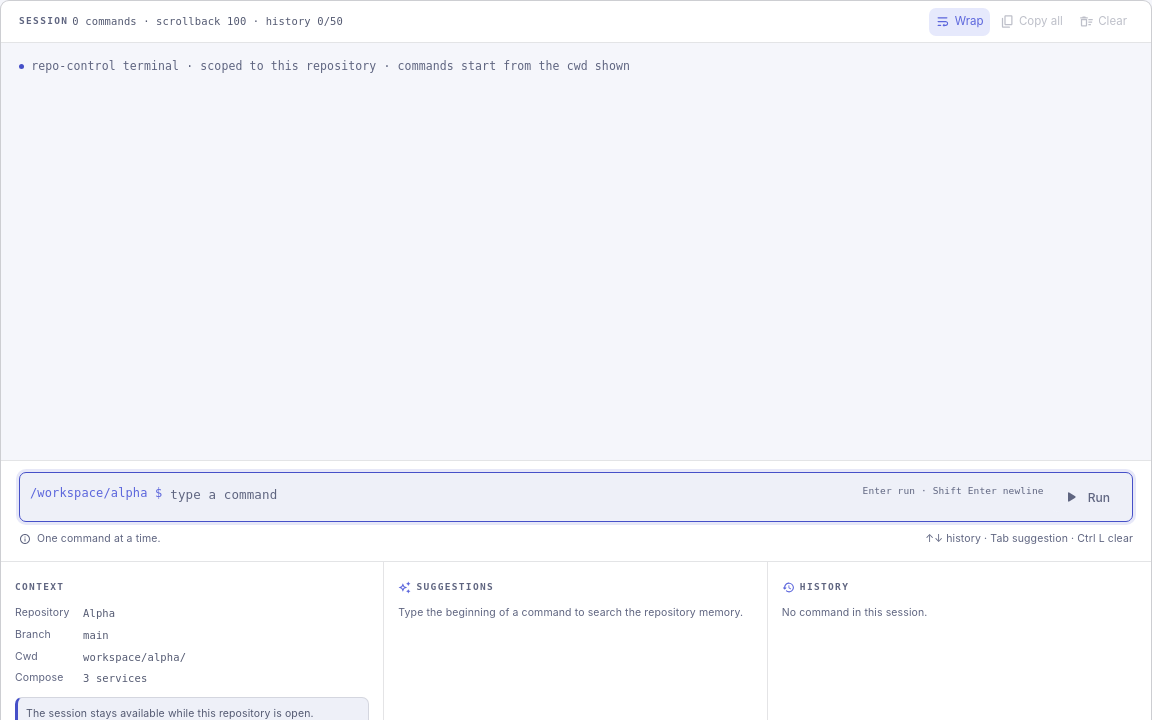
Test: TerminalPanel › loads repository suggestions and applies one from the context rail
This screenshot has width=1152, height=720.
Type "npm" into the text box named "Terminal command" at point(512, 495), box [170,485,855,504]
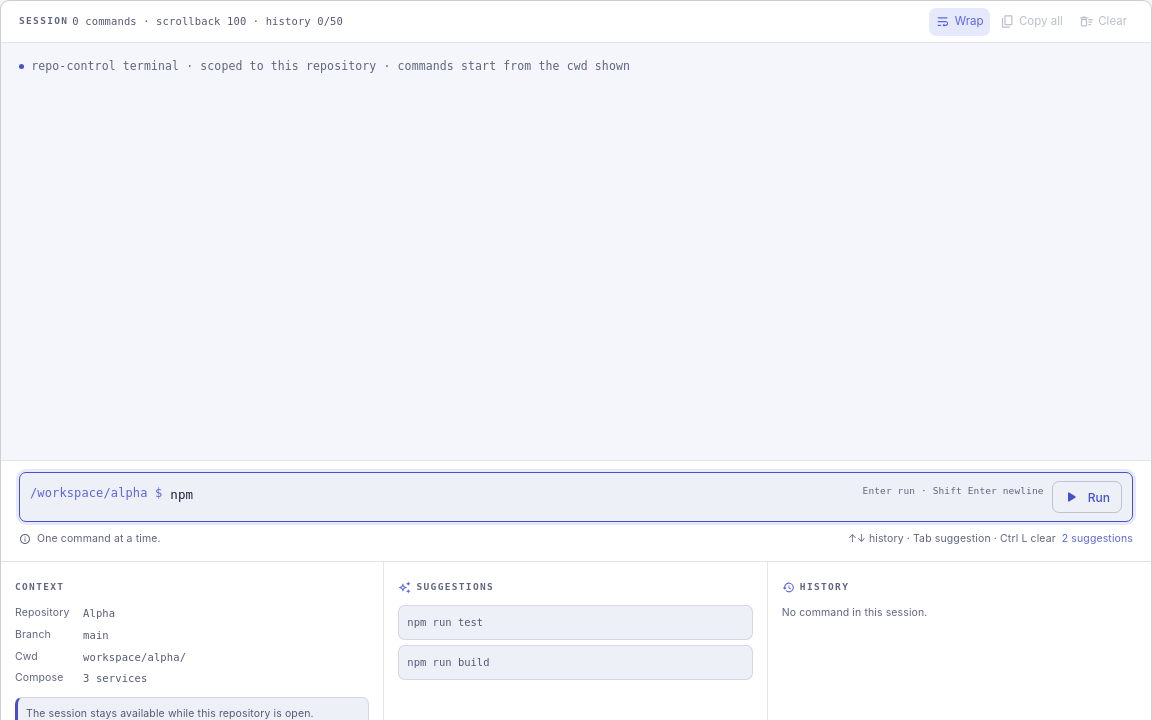
expect the button "npm run test" is shown: met
Click the button "npm run test" at point(445, 622), box [398,605,753,640]
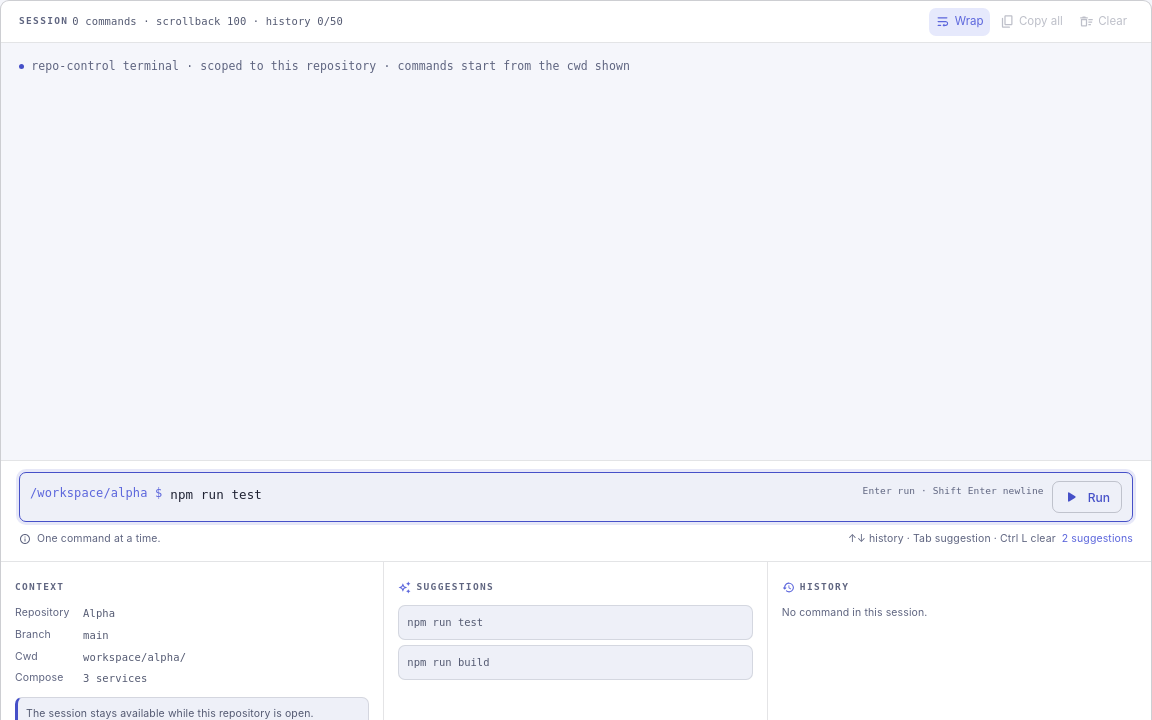
expect the text box named "Terminal command" holds "npm run test": met, box [170,485,855,504]
